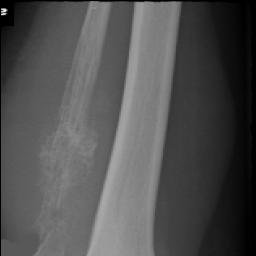cancer: (31, 77, 100, 256)
